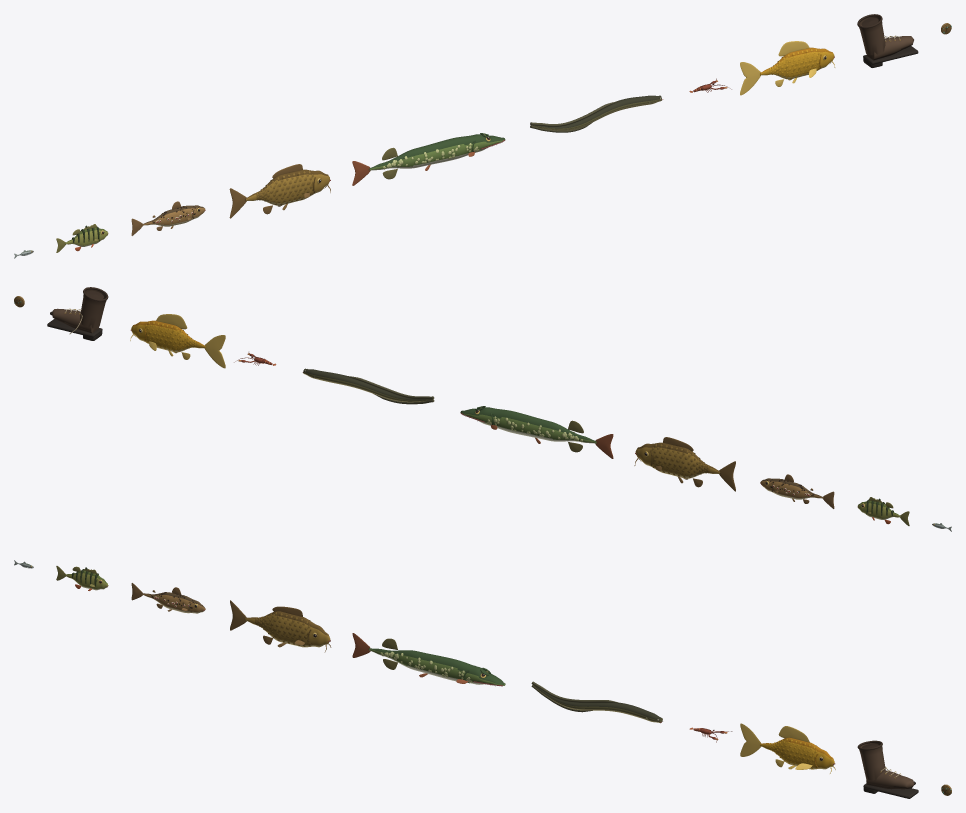
The model's file is fishing_catch.glb.
3 views of the same model, one above another, from view 1: azimuth 30°, elevation 25°; view 2: azimuth 150°, elevation 25°; view 3: azimuth 330°, elevation 25° (orthographic).
Parts seen in each view (by area): view 1: pike, carp, golden_koi, old_boot, eel, brown_trout, perch; view 2: pike, carp, golden_koi, old_boot, eel, brown_trout, perch; view 3: pike, carp, golden_koi, old_boot, eel, brown_trout, perch.
Boxes of the visible parts, x1,y1,x2,y2 form: pike: (352,133,505,185); carp: (229,164,330,218); golden_koi: (740,41,835,95); old_boot: (857,14,918,67); eel: (530,95,663,132); brown_trout: (131,201,205,235); perch: (56,224,108,252); pike: (460,406,613,458); carp: (634,437,735,491); golden_koi: (130,314,225,368); old_boot: (47,287,108,340); eel: (302,368,434,404); brown_trout: (760,474,834,508); perch: (857,497,909,525); pike: (352,633,505,686); carp: (230,600,331,652); golden_koi: (740,723,835,773); old_boot: (857,740,918,798); eel: (531,681,662,723); brown_trout: (131,583,205,613); perch: (56,566,108,590).
Size of the model in its own units: 4.78 by 0.2399 by 0.1619.
